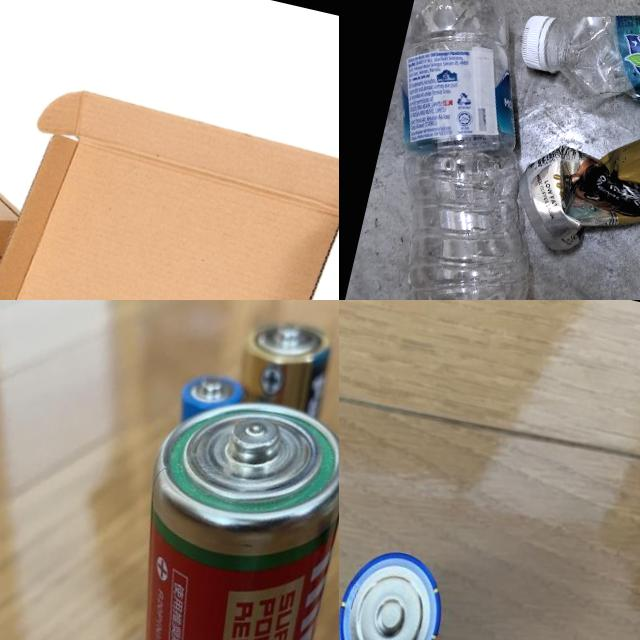bateria: (70, 375, 339, 640), (221, 306, 339, 446), (339, 539, 452, 640), (166, 362, 247, 434)
garrafa plástica: (0, 57, 339, 300), (344, 0, 600, 300), (541, 0, 640, 140)
lata: (503, 95, 640, 282)
tampa plástica: (513, 0, 559, 72)
